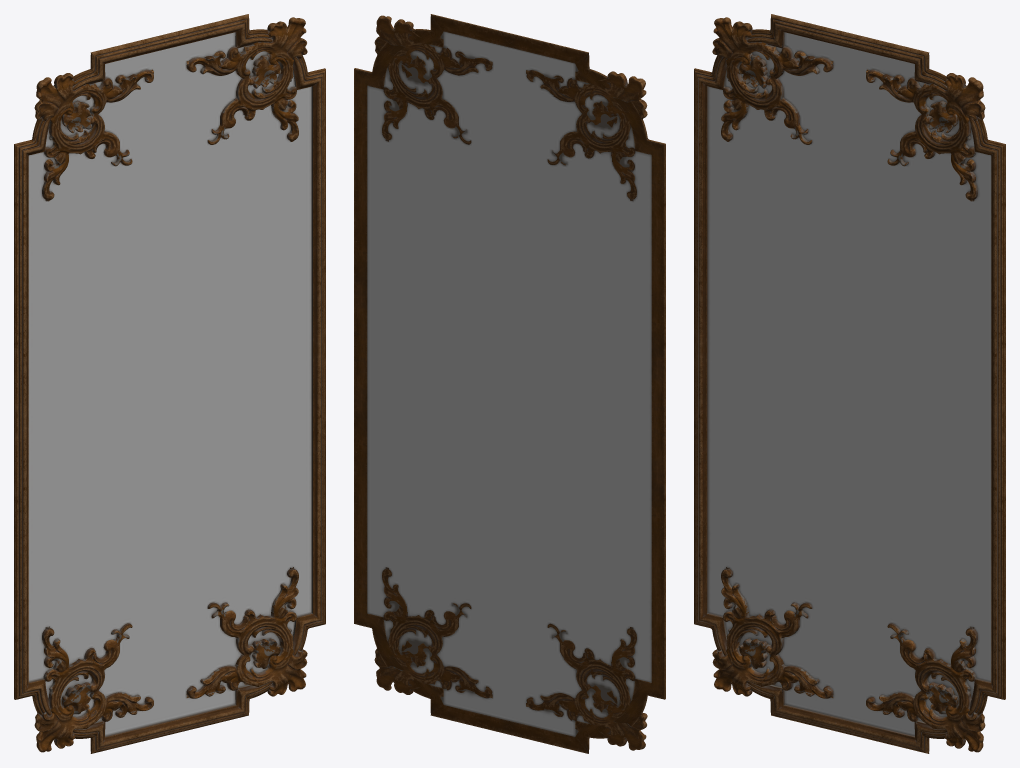
Rendered from mirror_03.glb.
3 renders of one model, left to right at view 1: azimuth 30°, elevation 25°; view 2: azimuth 150°, elevation 25°; view 3: azimuth 330°, elevation 25°, orthographic.
Parts seen in each view (by area): view 1: Polygon; view 2: Polygon; view 3: Polygon.
Boxes of the visible parts, x1,y1,x2,y2 form: Polygon: (14, 14, 325, 753); Polygon: (354, 14, 665, 753); Polygon: (694, 14, 1005, 753).
Bounding box in the file's own units: 82.88 × 179 × 2.28.
Materials: 1 (1 with a texture image).
